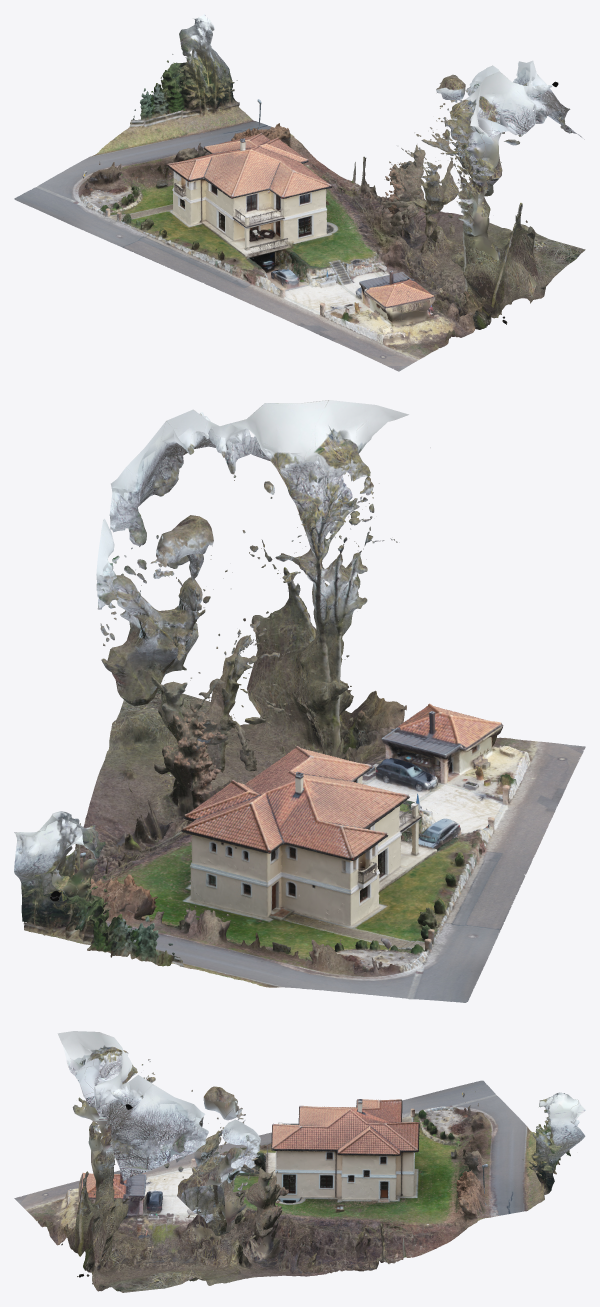
Rendered from 2020__haus__architekt__fuchs.glb.
3 views of the same model, one above another, from view 1: azimuth 30°, elevation 25°; view 2: azimuth 150°, elevation 25°; view 3: azimuth 270°, elevation 25° (orthographic). The views are drawn at different scales.
Visible parts, largest first — view 1: skfb_offset; view 2: skfb_offset; view 3: skfb_offset.
Boxes of the visible parts, bbox=[...] form: skfb_offset: bbox=[14, 14, 585, 371]; skfb_offset: bbox=[14, 400, 585, 1002]; skfb_offset: bbox=[14, 1031, 585, 1292].
Size of the model in its own units: 538789 by 311462 by 667033.
Materials: 1 (1 with a texture image).
